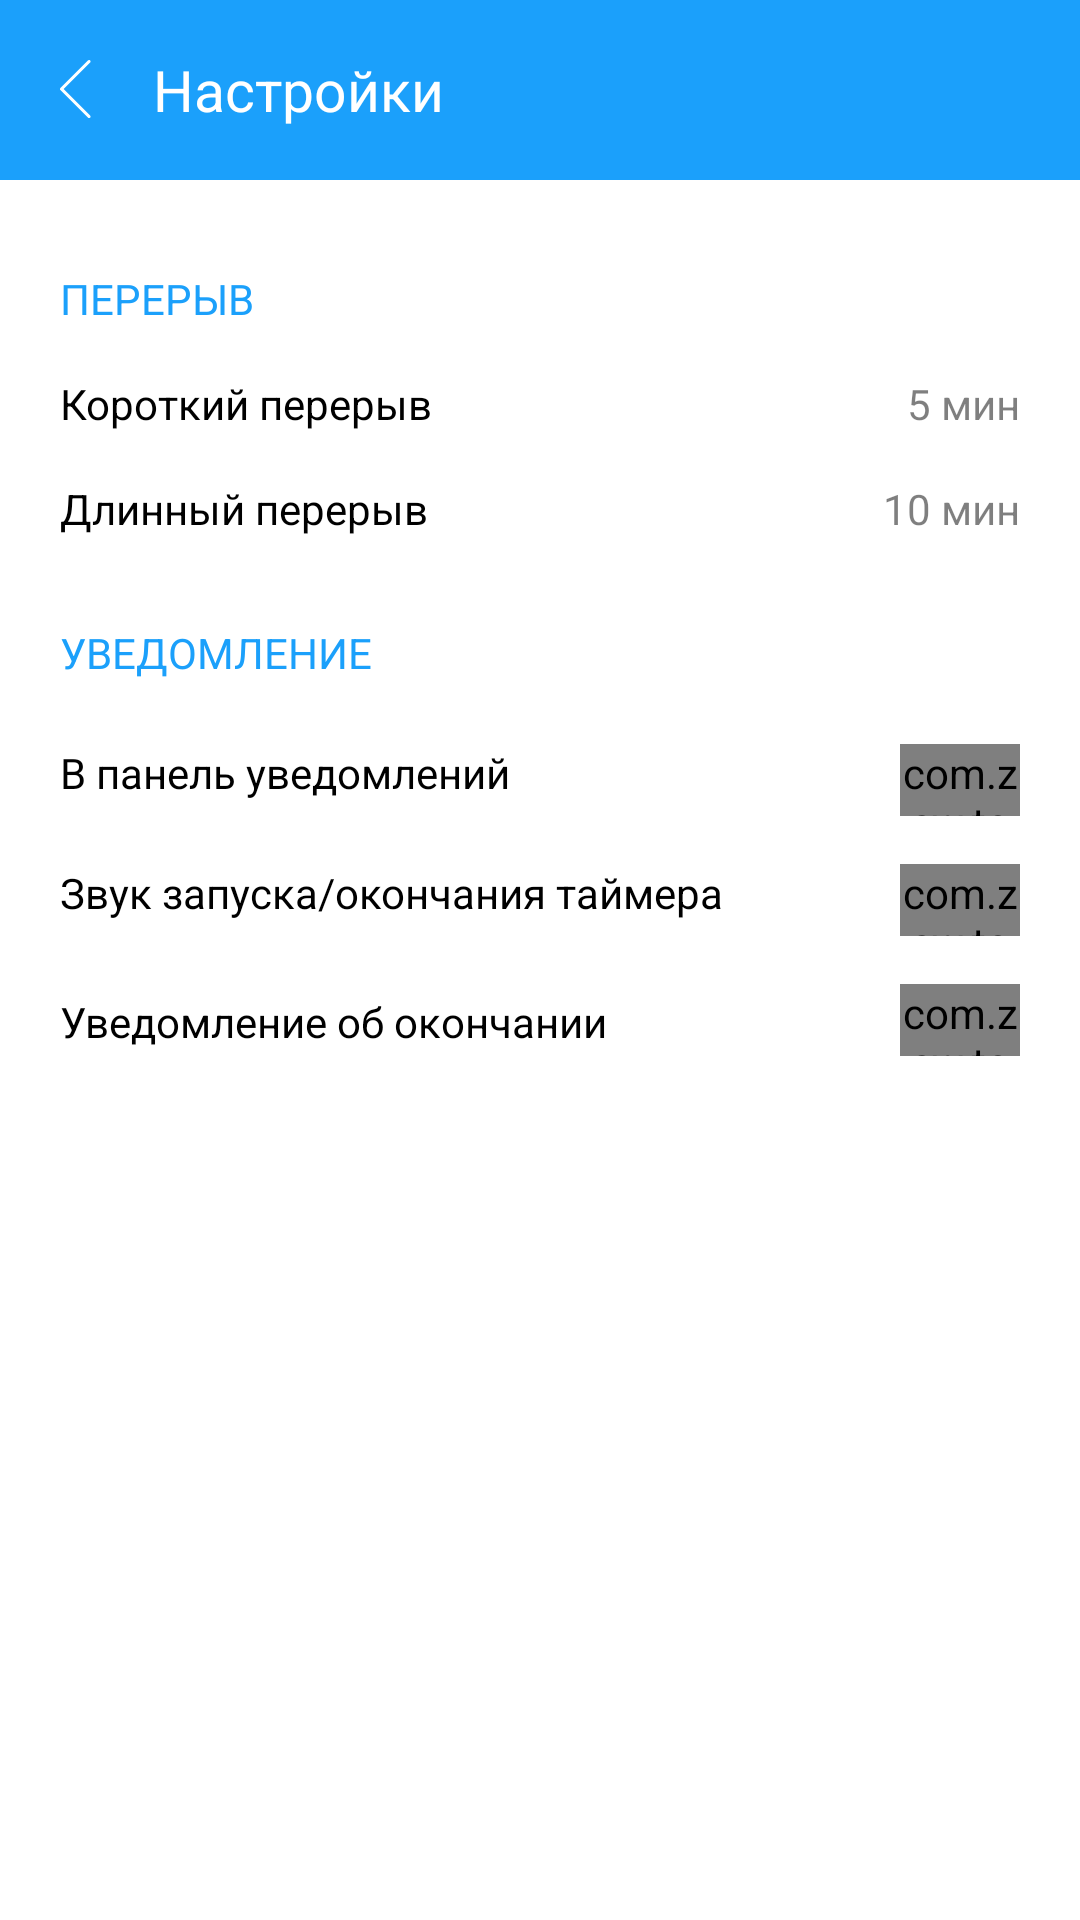

Icon bounding boxes for this 1080px x 1920px phone screenshot, format (x1, y1, x2, y2):
arrow left: (60, 60, 91, 118)
